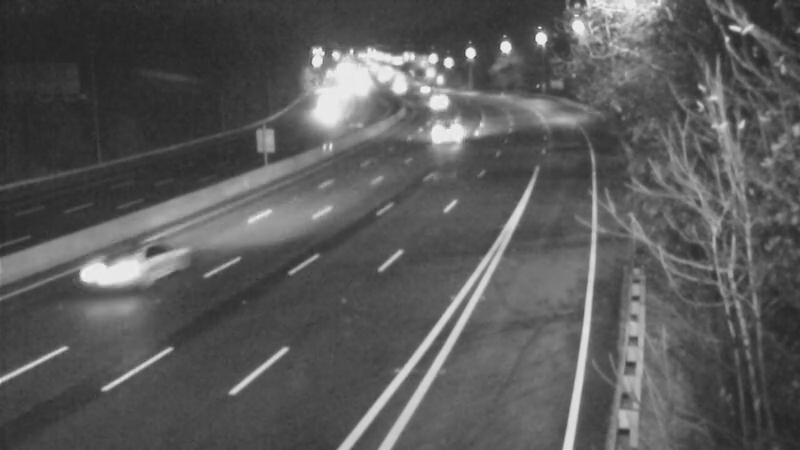vehicle: (70, 234, 150, 314), (399, 63, 449, 113), (415, 77, 465, 127), (419, 107, 469, 157)
